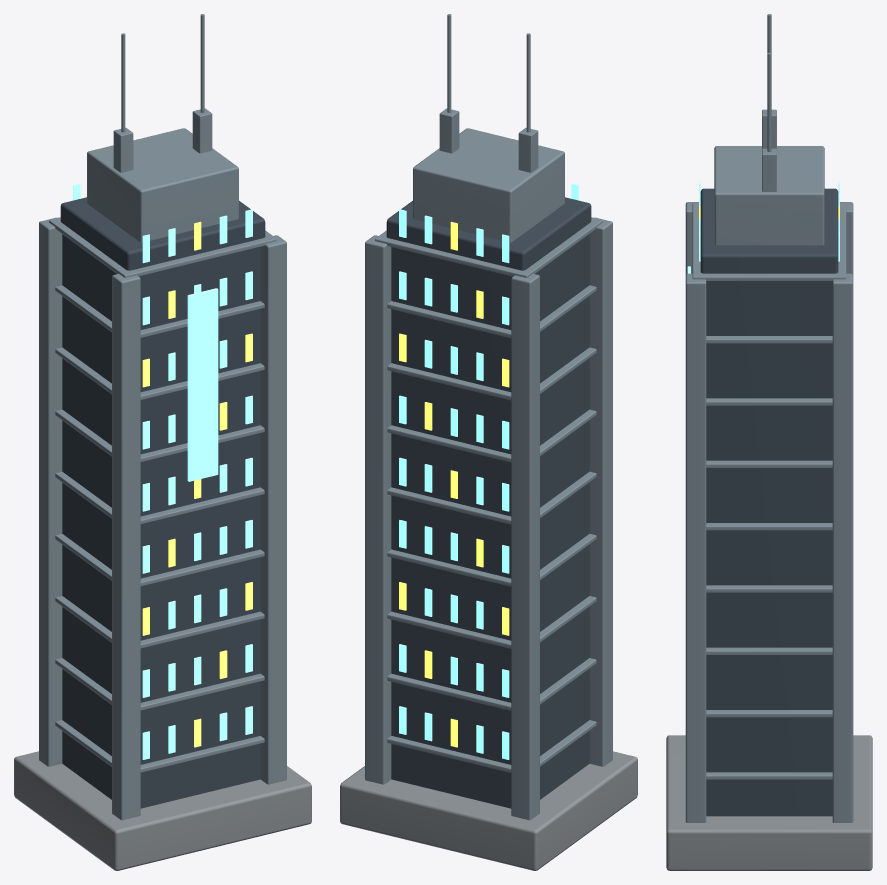
Rendered from Tower.fbx.
3 renders of one model, left to right at view 1: azimuth 30°, elevation 25°; view 2: azimuth 150°, elevation 25°; view 3: azimuth 270°, elevation 25°, orthographic.
Parts seen in each view (by area): view 1: Tower_Graphite, Tower_Steel, Tower_Concrete, Tower_Cyan, Tower_Amber; view 2: Tower_Graphite, Tower_Steel, Tower_Concrete, Tower_Cyan, Tower_Amber; view 3: Tower_Graphite, Tower_Steel, Tower_Concrete.
Boxes of the visible parts, left/top/right/bottom form: Tower_Graphite: left=60, top=197, right=265, bottom=808; Tower_Steel: left=39, top=14, right=286, bottom=820; Tower_Concrete: left=14, top=751, right=311, bottom=870; Tower_Cyan: left=73, top=183, right=252, bottom=759; Tower_Amber: left=142, top=221, right=252, bottom=747; Tower_Graphite: left=386, top=197, right=591, bottom=808; Tower_Steel: left=365, top=14, right=612, bottom=820; Tower_Concrete: left=340, top=751, right=637, bottom=870; Tower_Cyan: left=399, top=183, right=578, bottom=759; Tower_Amber: left=399, top=221, right=509, bottom=747; Tower_Graphite: left=700, top=188, right=838, bottom=816; Tower_Steel: left=685, top=14, right=853, bottom=822; Tower_Concrete: left=666, top=735, right=872, bottom=870.
Size of the model in its own units: 1000 by 3800 by 900.
